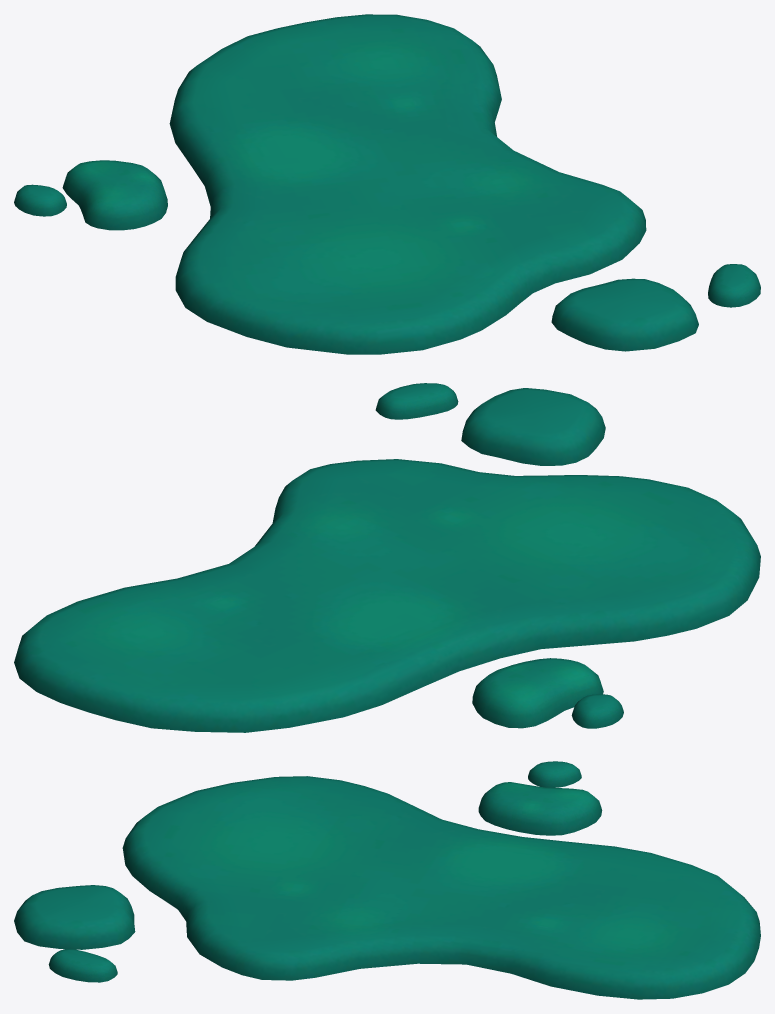
File: chem_spill_4.glb
3 views of the same model, one above another, from view 1: azimuth 30°, elevation 25°; view 2: azimuth 150°, elevation 25°; view 3: azimuth 270°, elevation 25° (orthographic). The views are drawn at different scales.
Visible parts, largest first — view 1: chem_spill_4; view 2: chem_spill_4; view 3: chem_spill_4.
Boxes of the visible parts, <box> form: chem_spill_4: <box>14,14,760,354</box>; chem_spill_4: <box>14,383,760,732</box>; chem_spill_4: <box>14,761,760,999</box>.
Size of the model in its own units: 0.8204 by 0.0392 by 1.15.
Materials: 1 (1 with a texture image).
